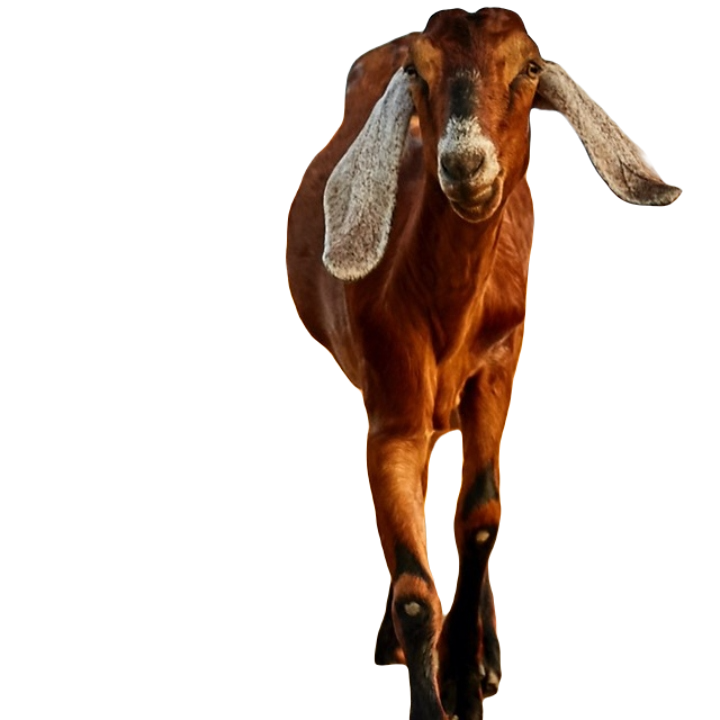Goat: (283, 6, 682, 719)
